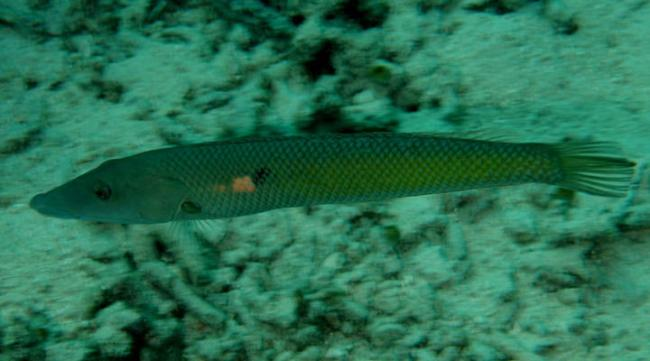fish: (28, 131, 636, 226)
